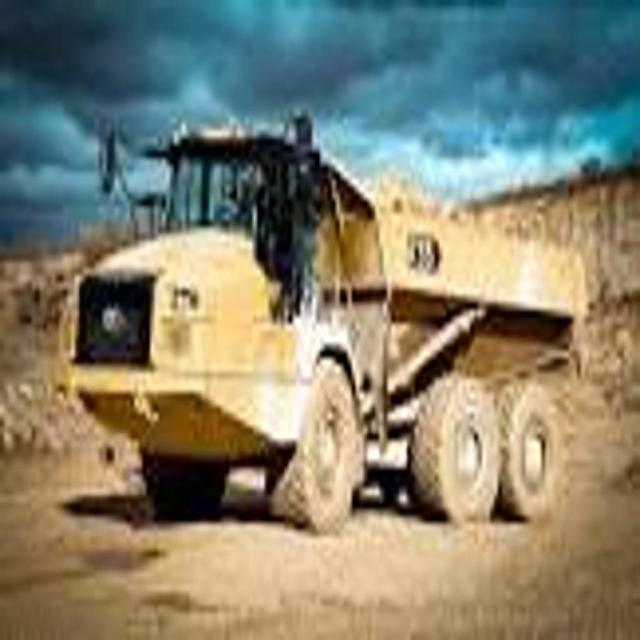dump_truck: (67, 94, 591, 522)
